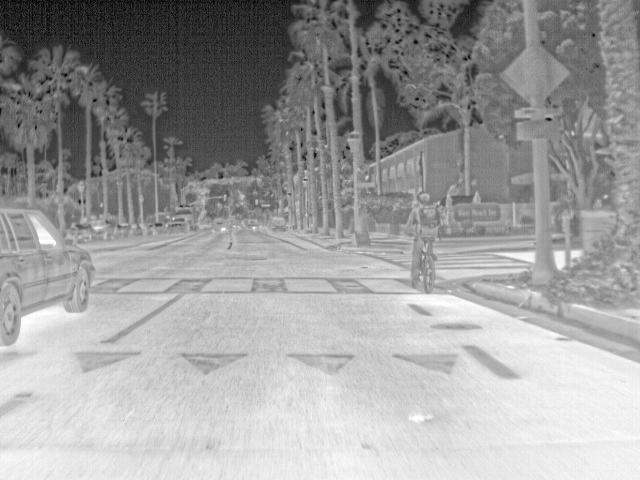car: (0, 203, 94, 346), (91, 218, 115, 240), (262, 213, 288, 232), (166, 216, 192, 230)
person: (404, 191, 443, 285)
